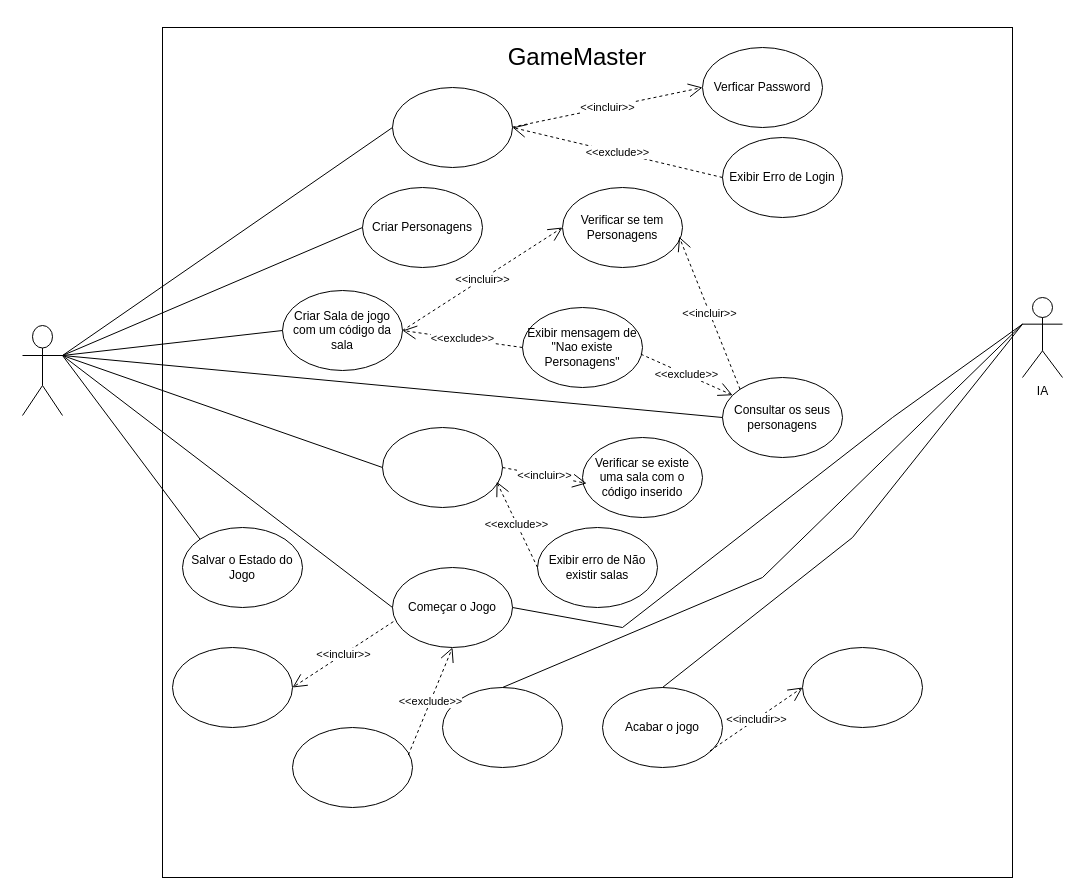
This 1080x895 diagram has some shape labels left out. The shapes that lost their labels are listed below. From the top down, each one's centre as x and y in pixels, then its label:
At (452,127): "Fazer Login".
At (42,370): "Utilizador".
At (442,467): "Entrar na Sala de jogo criada por outro utilizador através do código da sala".
At (232,687): "Verificar se a sala tem jogadores suficientes para começar o jogo".
At (862,687): "Verifica se algum jogador alcançou o objetivo".
At (502,727): "Fazer Missões e Objetivos".
At (352,767): "Exibir mensagem de não existir jogares suficientes na sala".
